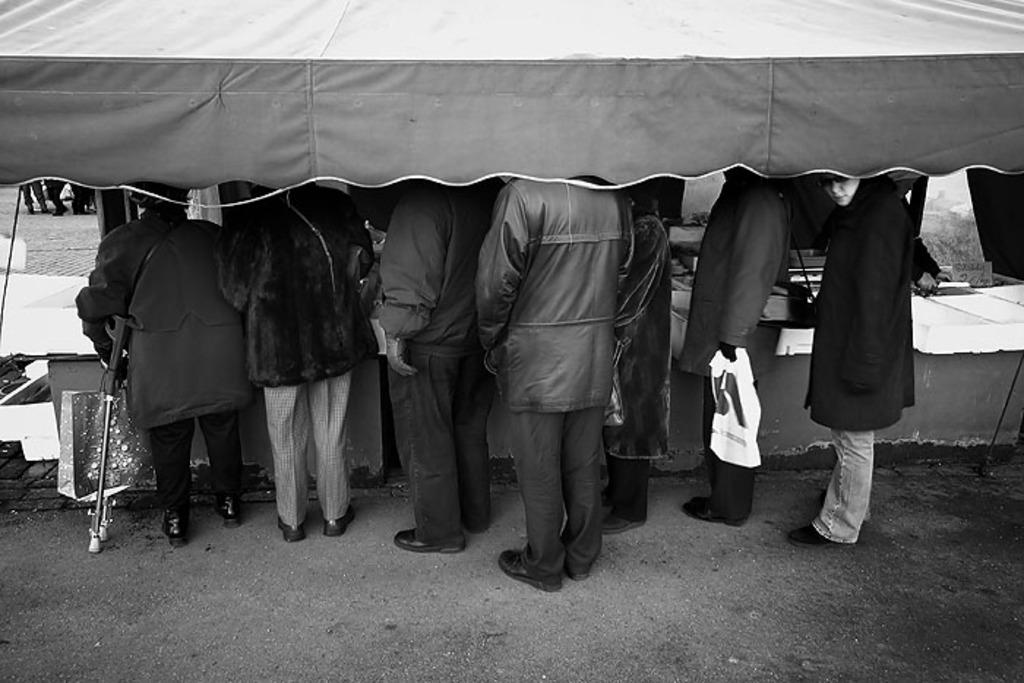crutches: (72, 180, 271, 562)
